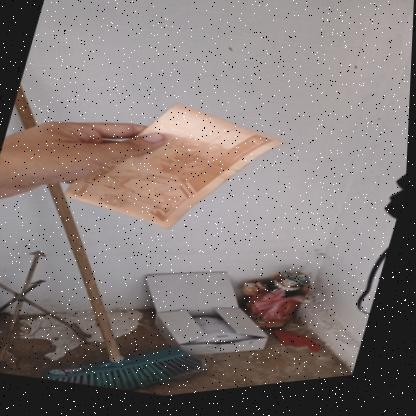twenty-back-vef: (57, 74, 295, 267)
